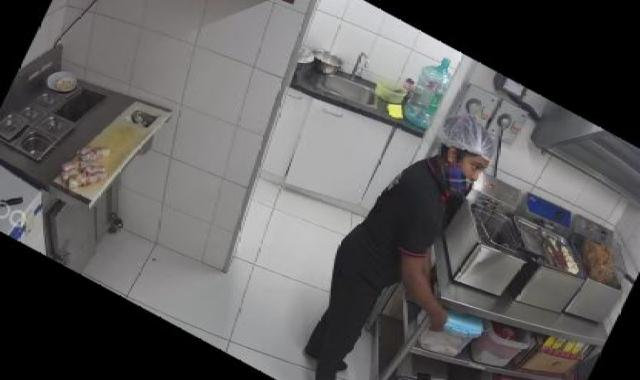hairnet: (426, 112, 501, 164)
